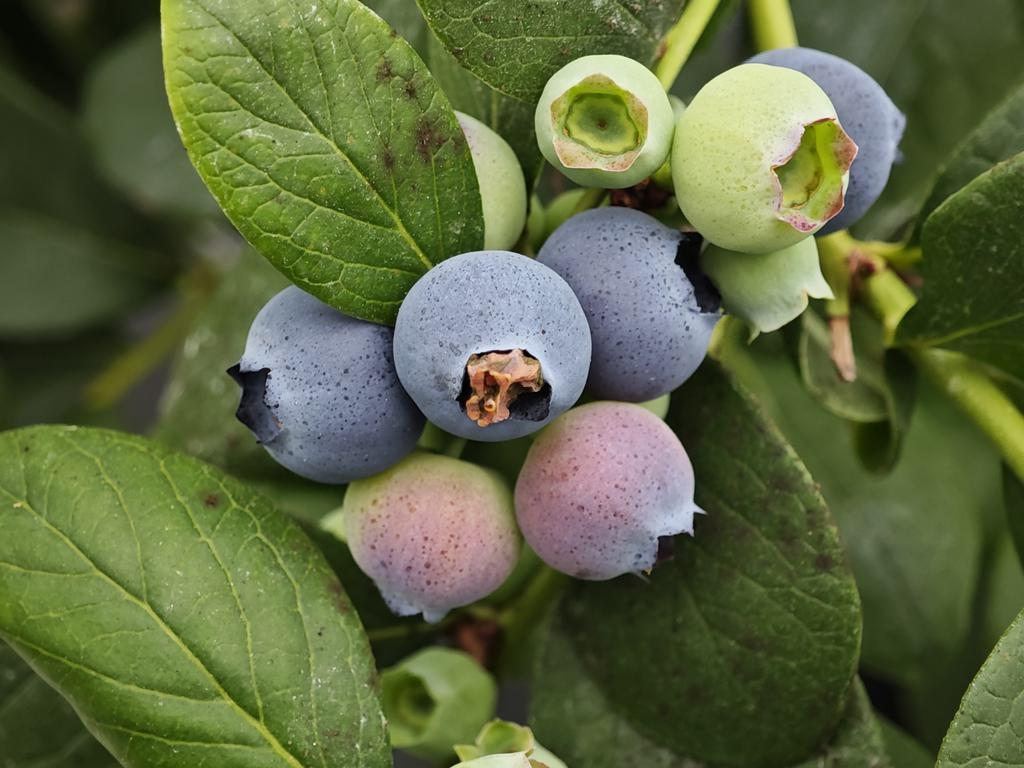RipeBlueBerry: (389, 247, 596, 443), (228, 279, 412, 488), (540, 202, 728, 405)
Semi-RipeBlueBerry: (513, 395, 702, 587), (339, 453, 521, 624)
UnripeBlueBerry: (672, 57, 857, 258)
